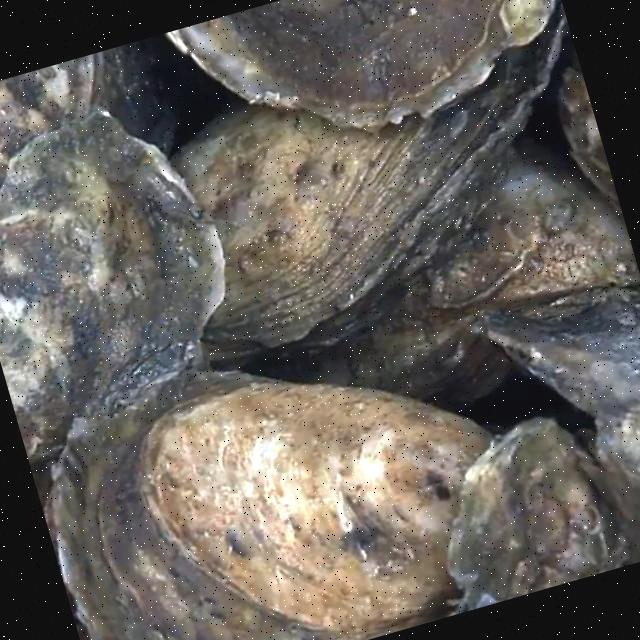Oyster-Closed: (166, 0, 563, 356), (53, 371, 492, 640), (234, 132, 640, 399), (0, 113, 223, 460), (164, 0, 548, 131), (446, 419, 640, 606), (482, 280, 640, 478), (0, 49, 104, 165)
